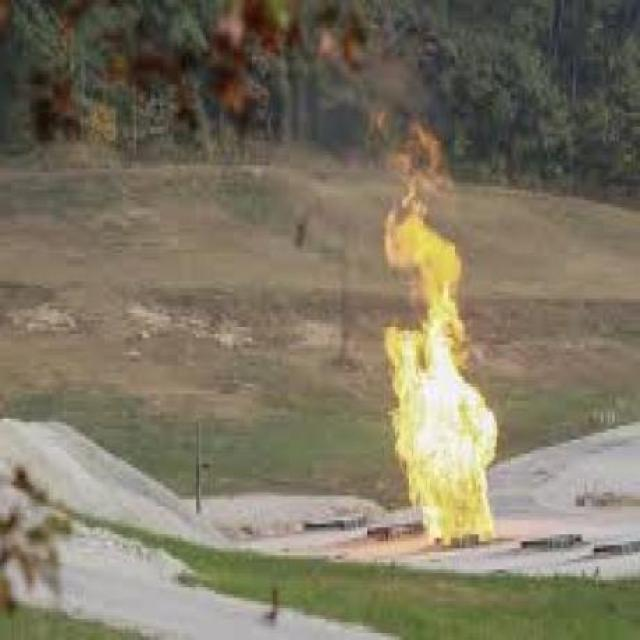Fire: (334, 104, 529, 552)
